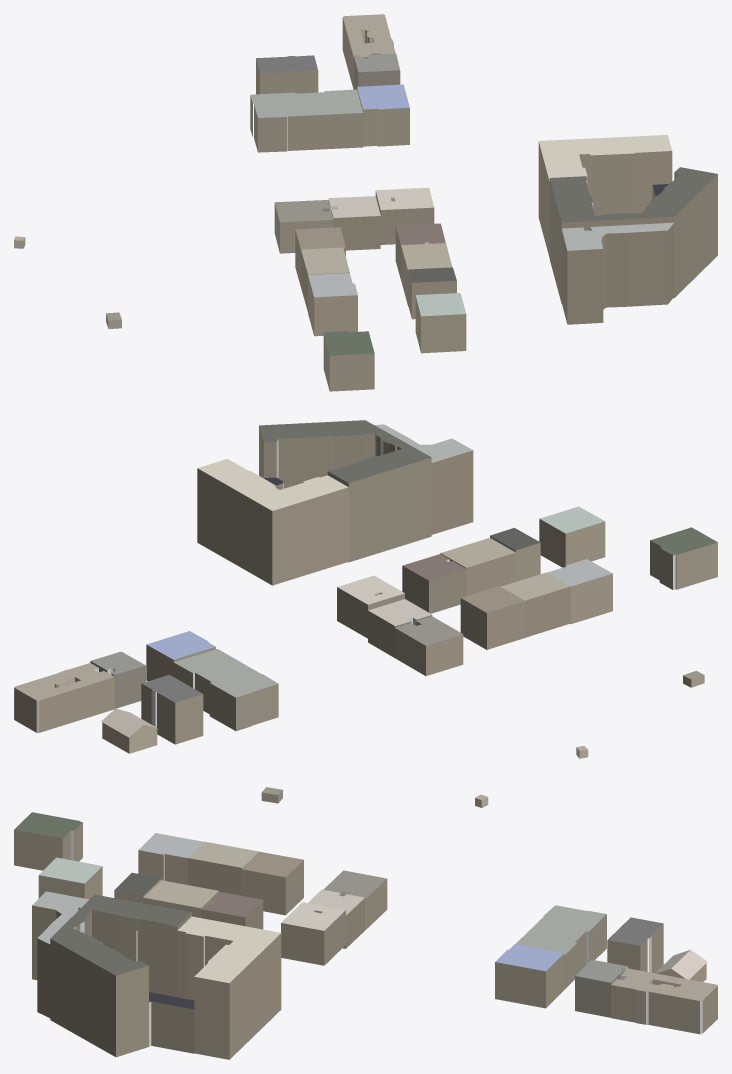
3 renders of one model, top to bottom at view 1: azimuth 30°, elevation 25°; view 2: azimuth 150°, elevation 25°; view 3: azimuth 270°, elevation 25°, orthographic. The views are drawn at different scales.
Parts seen in each view (by area): view 1: tuile; view 2: tuile; view 3: tuile.
Boxes of the visible parts, x1,y1,x2,y2 form: tuile: (14, 14, 717, 391); tuile: (14, 420, 717, 758); tuile: (14, 787, 717, 1059).
Size of the model in its own units: 235 by 34.89 by 266.
